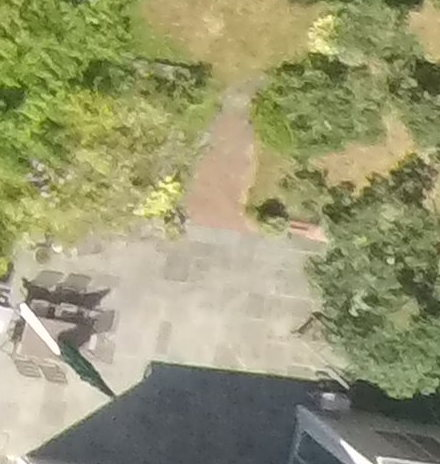table: (2, 316, 103, 361)
